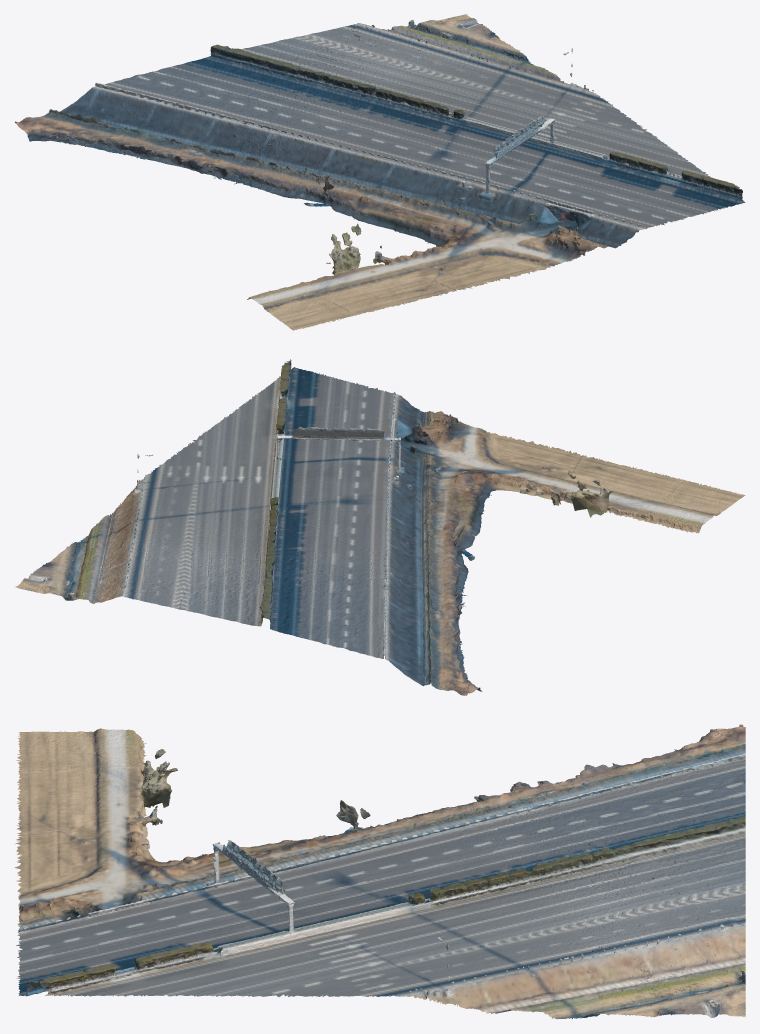
Rendered from EnvAsset_008_Tile_00.obj.
3 views of the same model, one above another, from view 1: azimuth 30°, elevation 25°; view 2: azimuth 150°, elevation 25°; view 3: azimuth 270°, elevation 25° (orthographic). The views are drawn at different scales.
Parts seen in each view (by area): view 1: Default; view 2: Default; view 3: Default.
Part boxes in pixels (bbox=[...]): Default: bbox=[15, 14, 745, 330]; Default: bbox=[15, 359, 745, 695]; Default: bbox=[14, 724, 745, 1019].
Bounding box in the file's own units: 116 × 14.99 × 124.
1 material, 1 textured.
